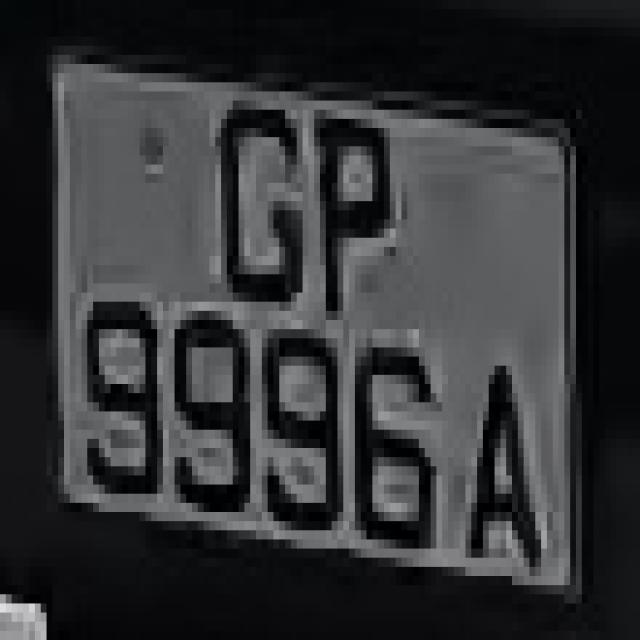6: (343, 283, 448, 558)
9: (169, 293, 256, 594), (70, 256, 157, 521), (244, 320, 344, 549)
A: (436, 338, 547, 594)
G: (204, 91, 296, 311)
P: (314, 91, 407, 311)
